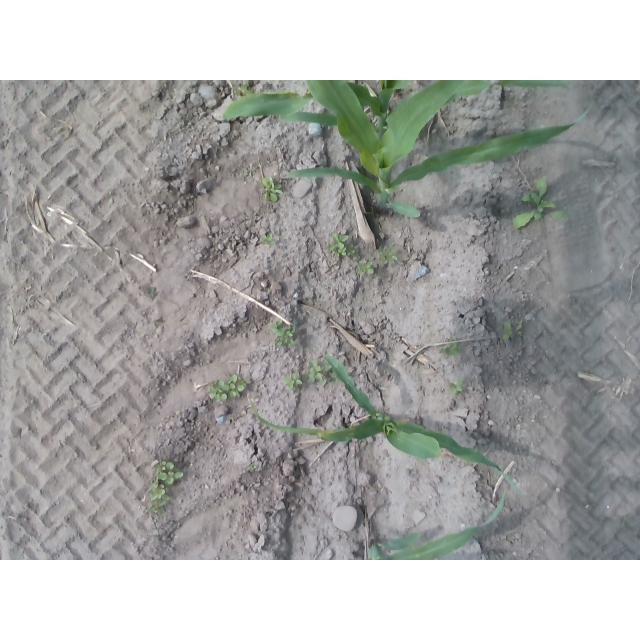Maize: (222, 81, 594, 220), (250, 353, 522, 498), (367, 492, 507, 560)
Weeds: (514, 177, 571, 229), (208, 373, 245, 406), (142, 483, 173, 514), (272, 320, 297, 353), (154, 460, 187, 485), (329, 231, 356, 260), (502, 315, 529, 341), (304, 362, 332, 387), (259, 178, 286, 203), (285, 373, 304, 394), (258, 230, 279, 249), (441, 342, 464, 358), (450, 376, 466, 399), (356, 261, 377, 278), (383, 250, 400, 267), (243, 463, 261, 476)
